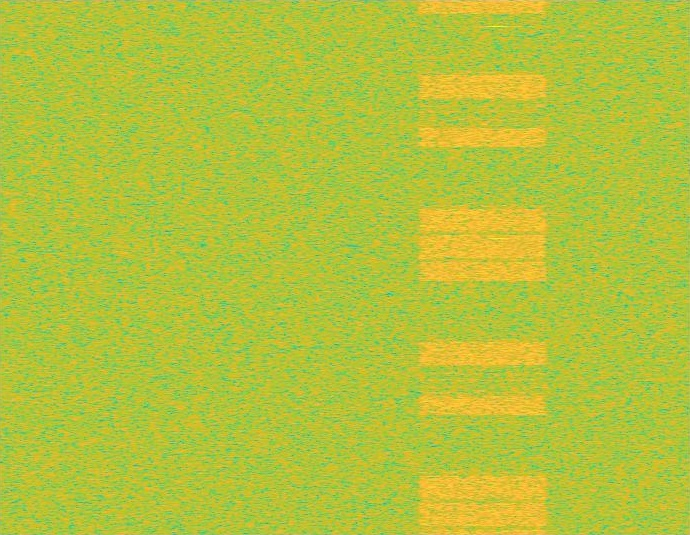LTE: (414, 0, 552, 534)
Radar: (491, 0, 504, 534)
